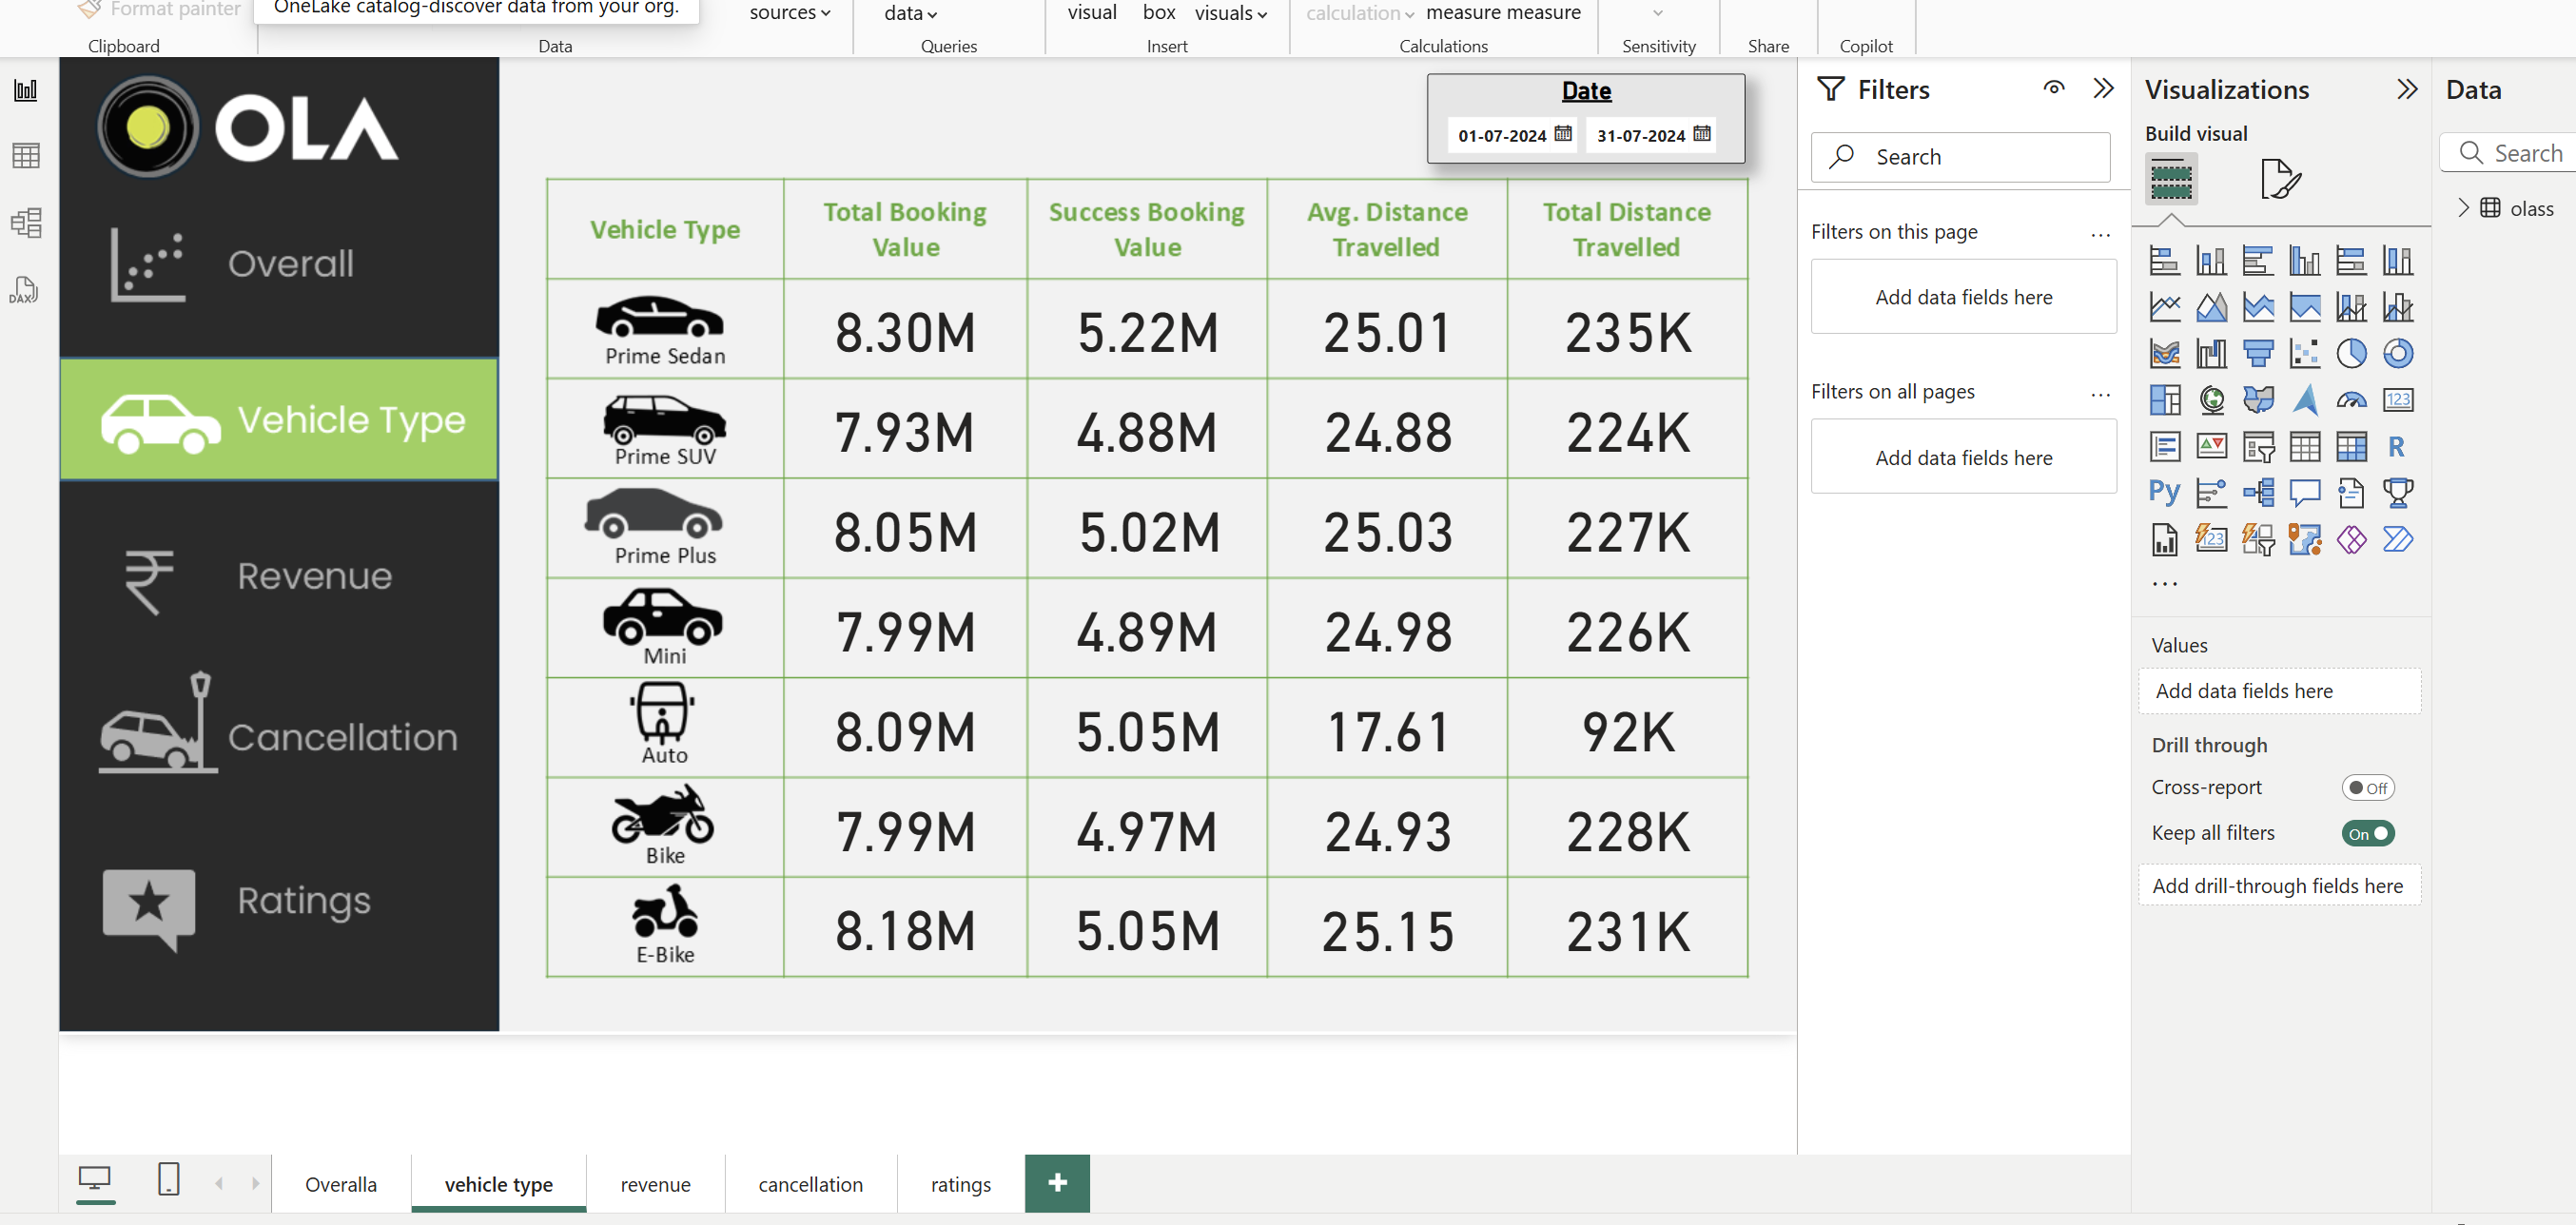

The dashboard page shown, as its layout file describes it:
{"tool":"powerbi","page":{"name":"vehicle type","canvas":[1280,720],"ordinal":1},"visuals":[{"type":"actionButton","box":[0,107.8,324.4,91.1],"z":0},{"type":"actionButton","box":[0,222.2,324.4,92.2],"z":1000},{"type":"actionButton","box":[0,350,324.4,81.1],"z":2000},{"type":"actionButton","box":[0,446.7,324.4,92.2],"z":3000},{"type":"actionButton","box":[0,583.3,324.4,93.3],"z":4000},{"type":"card","fields":{"Values":["Sum(olass.Booking_Value)"]},"box":[536,240.3,172.9,66],"z":5000},{"type":"card","fields":{"Values":["Sum(olass.Booking_Value)"]},"box":[537,166.7,172.9,66.2],"z":6000},{"type":"card","fields":{"Values":["Sum(olass.Booking_Value)"]},"box":[537,313.9,172.9,66.2],"z":7000},{"type":"card","fields":{"Values":["Sum(olass.Booking_Value)"]},"box":[537,387.4,172.9,66.2],"z":8000},{"type":"card","fields":{"Values":["Sum(olass.Booking_Value)"]},"box":[537,461,172.9,66.2],"z":9000},{"type":"card","fields":{"Values":["Sum(olass.Booking_Value)"]},"box":[537,534.6,172.9,66.2],"z":10000},{"type":"card","fields":{"Values":["Sum(olass.Booking_Value)"]},"box":[537,606.9,172.9,66.2],"z":11000},{"type":"card","fields":{"Values":["Sum(olass.Booking_Value)"]},"box":[714.8,166.7,172.9,66.2],"z":12000},{"type":"card","fields":{"Values":["Sum(olass.Booking_Value)"]},"box":[714.8,240.3,172.9,66.2],"z":13000},{"type":"card","fields":{"Values":["Sum(olass.Booking_Value)"]},"box":[716,313.9,172.9,66.2],"z":14000},{"type":"card","fields":{"Values":["Sum(olass.Booking_Value)"]},"box":[714.8,387.4,172.9,66.2],"z":15000},{"type":"card","fields":{"Values":["Sum(olass.Booking_Value)"]},"box":[714.8,461,172.9,66.2],"z":16000},{"type":"card","fields":{"Values":["Sum(olass.Booking_Value)"]},"box":[714.8,534.6,172.9,66.2],"z":17000},{"type":"card","fields":{"Values":["Sum(olass.Booking_Value)"]},"box":[714.8,606.9,172.9,66.2],"z":18000},{"type":"card","fields":{"Values":["Avg(olass.Ride_Distance)"]},"box":[892.6,166.7,172.9,66.2],"z":19000},{"type":"card","fields":{"Values":["Avg(olass.Ride_Distance)"]},"box":[892.6,240.3,172.9,66.2],"z":20000},{"type":"card","fields":{"Values":["Avg(olass.Ride_Distance)"]},"box":[892.6,313.9,172.9,66.2],"z":21000},{"type":"card","fields":{"Values":["Avg(olass.Ride_Distance)"]},"box":[892.6,387.4,172.9,66.2],"z":22000},{"type":"card","fields":{"Values":["Avg(olass.Ride_Distance)"]},"box":[892.6,461,172.9,66.2],"z":23000},{"type":"card","fields":{"Values":["Avg(olass.Ride_Distance)"]},"box":[892.6,534.6,172.9,66.2],"z":24000},{"type":"card","fields":{"Values":["Avg(olass.Ride_Distance)"]},"box":[892.6,608.1,172.9,66.2],"z":25000},{"type":"card","fields":{"Values":["Sum(olass.Ride_Distance)"]},"box":[1069.1,166.7,172.9,66.2],"z":26000},{"type":"card","fields":{"Values":["Sum(olass.Ride_Distance)"]},"box":[1069.1,240.3,172.9,66.2],"z":27000},{"type":"card","fields":{"Values":["Sum(olass.Ride_Distance)"]},"box":[1069.1,313.9,172.9,66.2],"z":28000},{"type":"card","fields":{"Values":["Sum(olass.Ride_Distance)"]},"box":[1069.1,387.4,172.9,66.2],"z":29000},{"type":"card","fields":{"Values":["Sum(olass.Ride_Distance)"]},"box":[1069.1,461,172.9,66.2],"z":30000},{"type":"card","fields":{"Values":["Sum(olass.Ride_Distance)"]},"box":[1069.1,534.6,172.9,66.2],"z":31000},{"type":"card","fields":{"Values":["Sum(olass.Ride_Distance)"]},"box":[1069.1,608.1,172.9,66.2],"z":32000},{"type":"slicer","title":"Date","fields":{"Values":["olass.Date"]},"box":[1007.8,12.3,234.2,66.2],"z":33000}]}

Visuals, with their boxes on the page's 1280x720 design canvas (x1, y1, x2, y2). These are canvas units, not pixel positions in the 2576x1225 screenshot, which may show the page scaled, cropped or inside an application window:
actionButton: x1=0 y1=108 x2=324 y2=199
actionButton: x1=0 y1=222 x2=324 y2=314
actionButton: x1=0 y1=350 x2=324 y2=431
actionButton: x1=0 y1=447 x2=324 y2=539
actionButton: x1=0 y1=583 x2=324 y2=677
card - Sum(olass.Booking_Value): x1=536 y1=240 x2=709 y2=306
card - Sum(olass.Booking_Value): x1=537 y1=167 x2=710 y2=233
card - Sum(olass.Booking_Value): x1=537 y1=314 x2=710 y2=380
card - Sum(olass.Booking_Value): x1=537 y1=387 x2=710 y2=454
card - Sum(olass.Booking_Value): x1=537 y1=461 x2=710 y2=527
card - Sum(olass.Booking_Value): x1=537 y1=535 x2=710 y2=601
card - Sum(olass.Booking_Value): x1=537 y1=607 x2=710 y2=673
card - Sum(olass.Booking_Value): x1=715 y1=167 x2=888 y2=233
card - Sum(olass.Booking_Value): x1=715 y1=240 x2=888 y2=306
card - Sum(olass.Booking_Value): x1=716 y1=314 x2=889 y2=380
card - Sum(olass.Booking_Value): x1=715 y1=387 x2=888 y2=454
card - Sum(olass.Booking_Value): x1=715 y1=461 x2=888 y2=527
card - Sum(olass.Booking_Value): x1=715 y1=535 x2=888 y2=601
card - Sum(olass.Booking_Value): x1=715 y1=607 x2=888 y2=673
card - Avg(olass.Ride_Distance): x1=893 y1=167 x2=1066 y2=233
card - Avg(olass.Ride_Distance): x1=893 y1=240 x2=1066 y2=306
card - Avg(olass.Ride_Distance): x1=893 y1=314 x2=1066 y2=380
card - Avg(olass.Ride_Distance): x1=893 y1=387 x2=1066 y2=454
card - Avg(olass.Ride_Distance): x1=893 y1=461 x2=1066 y2=527
card - Avg(olass.Ride_Distance): x1=893 y1=535 x2=1066 y2=601
card - Avg(olass.Ride_Distance): x1=893 y1=608 x2=1066 y2=674
card - Sum(olass.Ride_Distance): x1=1069 y1=167 x2=1242 y2=233
card - Sum(olass.Ride_Distance): x1=1069 y1=240 x2=1242 y2=306
card - Sum(olass.Ride_Distance): x1=1069 y1=314 x2=1242 y2=380
card - Sum(olass.Ride_Distance): x1=1069 y1=387 x2=1242 y2=454
card - Sum(olass.Ride_Distance): x1=1069 y1=461 x2=1242 y2=527
card - Sum(olass.Ride_Distance): x1=1069 y1=535 x2=1242 y2=601
card - Sum(olass.Ride_Distance): x1=1069 y1=608 x2=1242 y2=674
"Date" slicer: x1=1008 y1=12 x2=1242 y2=78
